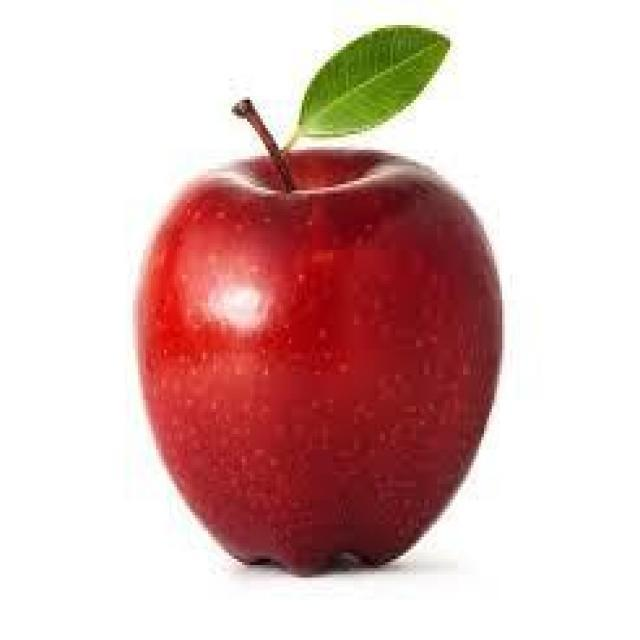apple: (135, 26, 504, 577)
